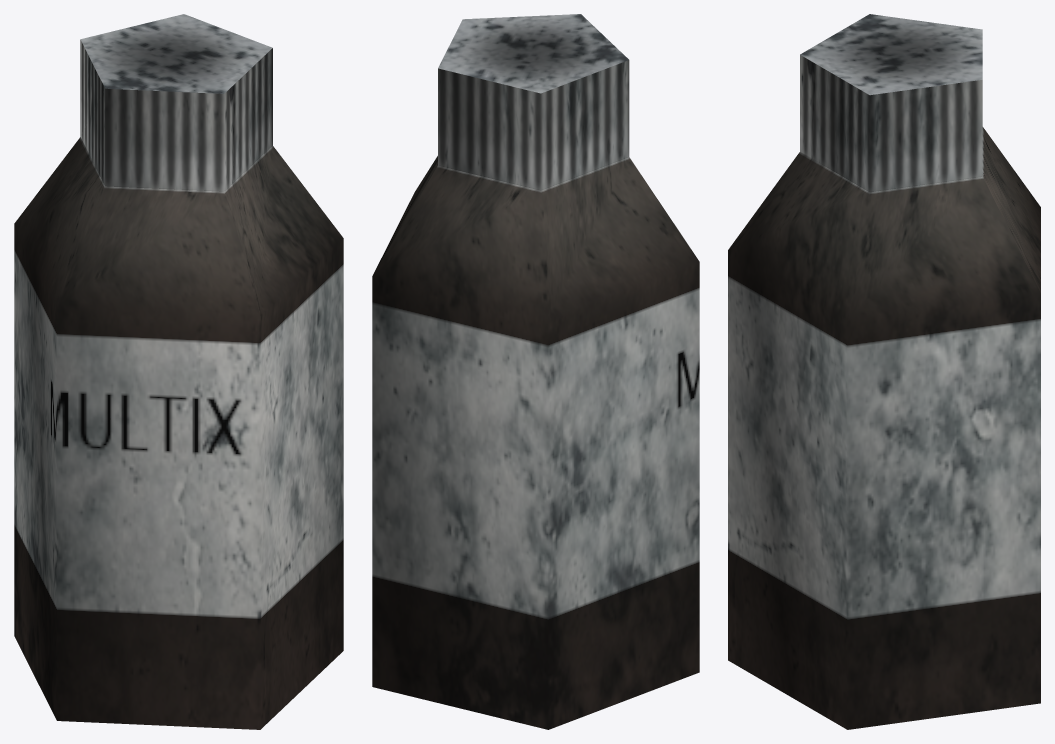
Rendered from medicine_mid_C.fbx.
3 renders of one model, left to right at view 1: azimuth 30°, elevation 25°; view 2: azimuth 150°, elevation 25°; view 3: azimuth 270°, elevation 25°, orthographic.
Visible parts, largest first — view 1: medicine_mid_C; view 2: medicine_mid_C; view 3: medicine_mid_C.
Boxes of the visible parts, x1,y1,x2,y2 form: medicine_mid_C: [14, 14, 343, 729]; medicine_mid_C: [372, 14, 699, 729]; medicine_mid_C: [728, 14, 1040, 729].
Bounding box in the file's own units: 8.57 × 17.42 × 8.15.
